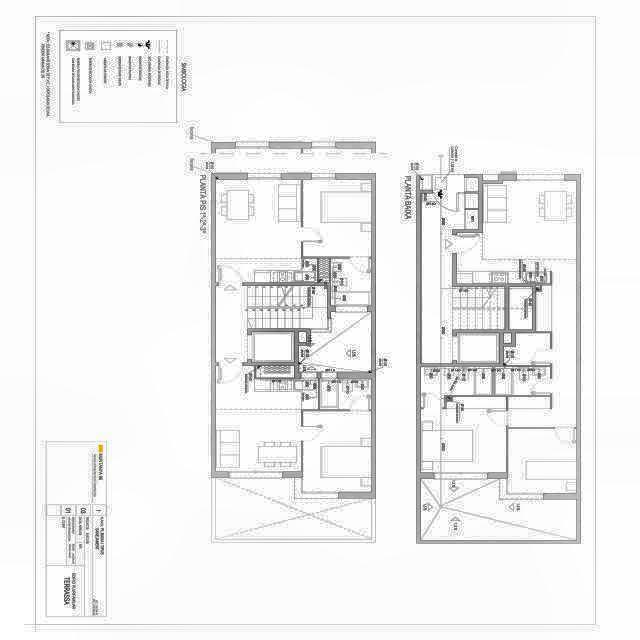room: (421, 193, 505, 364), (216, 366, 318, 472), (216, 180, 317, 283), (421, 479, 577, 540), (298, 258, 372, 373), (421, 397, 506, 473), (303, 411, 372, 492), (303, 180, 371, 257), (248, 286, 327, 329), (421, 367, 493, 408), (216, 286, 248, 363), (320, 379, 372, 410), (495, 367, 550, 395), (504, 333, 550, 365), (252, 332, 294, 363), (420, 175, 479, 193), (509, 287, 532, 330), (256, 366, 294, 378), (319, 258, 329, 283), (504, 333, 511, 343)
